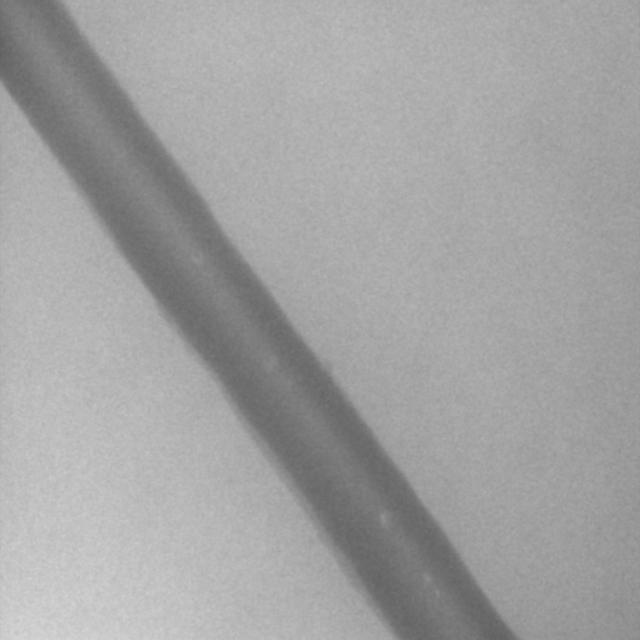air-hole: (262, 352, 278, 372), (378, 511, 387, 529), (191, 254, 204, 264), (427, 575, 431, 586), (438, 594, 441, 600)
